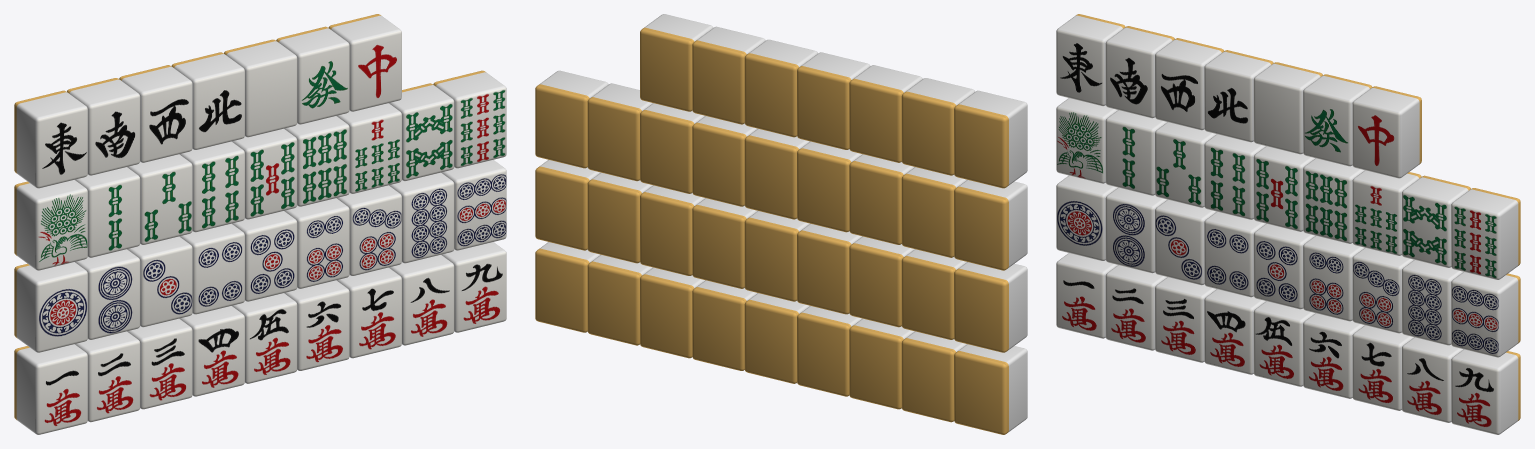
Rendered from mahjong.glb.
3 views of the same model, side by side, from view 1: azimuth 30°, elevation 25°; view 2: azimuth 150°, elevation 25°; view 3: azimuth 330°, elevation 25° (orthographic). The views are drawn at different scales.
Visible parts, largest first — view 1: TO_8, P1_26, M1_34, S1_17, S9_9, PE_5, CH_2, HT_3, SH_6, NA_7, HK_4, S8_10 (+22 smaller); view 2: TO_8, P1_26, M1_34, S1_17, S9_9, PE_5, CH_2, HT_3, SH_6, NA_7, HK_4, S8_10 (+22 smaller); view 3: CH_2, S9_9, P9_18, M9_27, HK_4, PE_5, TO_8, HT_3, NA_7, SH_6, S8_10, S7_11 (+22 smaller).
Part boxes in pixels (x1,y1,x2,y2): TO_8: (14,90,87,188); P1_26: (14,262,87,352); M1_34: (14,344,87,434); S1_17: (14,180,87,270); S9_9: (433,70,506,168); PE_5: (171,52,244,149); CH_2: (328,14,401,111); HT_3: (276,26,349,124); SH_6: (119,65,192,162); NA_7: (67,78,140,175); HK_4: (224,39,297,137); S8_10: (389,83,454,181); TO_8: (954,90,1027,188); P1_26: (954,262,1027,352); M1_34: (954,344,1027,434); S1_17: (954,180,1027,270); S9_9: (535,70,608,168); PE_5: (797,52,870,149); CH_2: (640,14,713,111); HT_3: (692,26,765,124); SH_6: (849,65,922,162); NA_7: (901,78,974,175); HK_4: (744,39,817,137); S8_10: (587,83,652,181); CH_2: (1352,86,1421,178); S9_9: (1451,188,1520,279); P9_18: (1451,272,1520,357); M9_27: (1451,349,1520,434); HK_4: (1253,62,1322,154); PE_5: (1204,50,1273,142); TO_8: (1056,14,1125,106); HT_3: (1303,74,1372,166); NA_7: (1105,26,1174,118); SH_6: (1155,38,1223,130); S8_10: (1402,175,1470,267); S7_11: (1352,170,1421,255).
Bounding box in the file's own units: 18 × 11.6 × 1.6.
3 materials, 1 textured.
